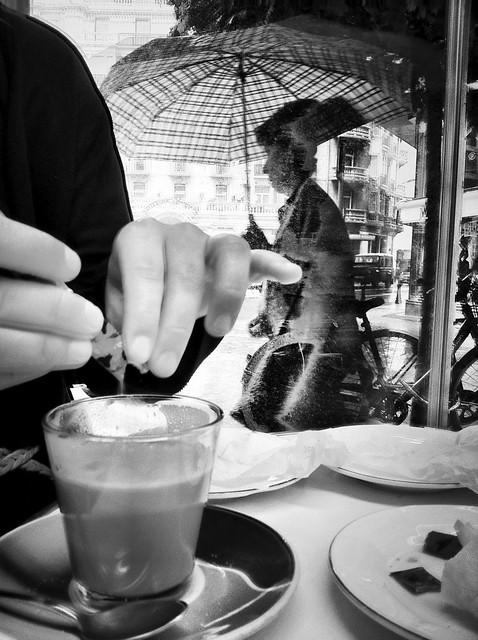backpack: (231, 296, 424, 436), (446, 302, 477, 429)
banana: (237, 289, 427, 428)
bench: (96, 192, 400, 386), (222, 199, 417, 426), (230, 301, 430, 437), (248, 193, 378, 352), (241, 256, 401, 338), (348, 296, 385, 328)
bicycle: (235, 151, 413, 420), (188, 310, 464, 462), (230, 282, 422, 429), (255, 146, 356, 386), (249, 224, 390, 372), (312, 294, 430, 422), (263, 338, 428, 426), (372, 298, 476, 429), (295, 269, 397, 370), (333, 259, 383, 384), (357, 311, 422, 403), (408, 326, 468, 425), (318, 287, 410, 351), (434, 299, 478, 430), (351, 295, 405, 388), (379, 326, 427, 421), (393, 279, 406, 303)
bird: (239, 141, 340, 352), (245, 279, 301, 340)
boat: (350, 252, 393, 288)
book: (396, 527, 465, 593), (439, 518, 477, 625), (384, 546, 448, 594), (388, 566, 440, 595), (420, 530, 460, 560)
bottle: (36, 363, 229, 596), (239, 134, 344, 350), (0, 201, 106, 392), (243, 212, 268, 248)
bowl: (12, 389, 415, 626), (19, 454, 289, 624), (74, 483, 387, 628), (43, 390, 223, 610), (241, 290, 426, 426), (317, 481, 470, 631), (142, 496, 315, 620), (0, 201, 106, 392), (193, 504, 294, 603)
bus: (350, 253, 393, 289)
cake: (12, 389, 415, 626), (42, 387, 256, 605), (229, 310, 426, 437), (0, 201, 106, 392), (194, 504, 294, 598), (433, 526, 476, 631), (245, 273, 303, 339), (89, 327, 121, 368)
car: (230, 301, 430, 437), (248, 193, 378, 352), (241, 256, 401, 338), (434, 299, 478, 430), (323, 252, 386, 335), (309, 249, 392, 302), (348, 256, 391, 347), (339, 239, 399, 295), (351, 252, 393, 289), (352, 271, 391, 301), (350, 258, 379, 297), (396, 270, 423, 296), (361, 267, 391, 289), (392, 263, 408, 297), (394, 253, 409, 286), (351, 275, 369, 300), (381, 264, 395, 285), (377, 268, 392, 287), (395, 269, 410, 287)
cat: (230, 301, 430, 437), (240, 148, 354, 351), (241, 184, 315, 339), (245, 279, 301, 340)
cell phone: (388, 566, 440, 595)
chair: (243, 315, 460, 575), (111, 243, 433, 416), (220, 118, 390, 417), (3, 0, 128, 388), (237, 287, 426, 429), (2, 155, 104, 390), (248, 193, 378, 352), (448, 289, 477, 414), (388, 566, 439, 595)
cow: (248, 193, 378, 352)
cup: (10, 374, 447, 638), (21, 335, 251, 559), (19, 454, 289, 624), (43, 390, 223, 610), (182, 489, 302, 625), (439, 519, 478, 626)
dining table: (61, 71, 453, 529), (0, 0, 338, 474), (14, 155, 354, 609), (5, 371, 478, 635), (77, 219, 456, 455), (10, 283, 287, 567), (0, 257, 311, 445), (1, 439, 297, 629), (3, 208, 323, 380), (229, 336, 469, 562), (161, 313, 466, 468), (74, 483, 387, 628), (36, 363, 229, 596), (216, 452, 467, 629), (219, 284, 435, 431), (247, 426, 473, 541), (27, 316, 265, 423), (317, 481, 470, 631), (1, 205, 114, 392), (242, 388, 463, 482), (255, 502, 401, 636), (0, 343, 106, 509), (272, 552, 457, 636), (0, 276, 130, 377), (373, 520, 477, 632), (0, 321, 129, 389)
dog: (232, 296, 424, 431), (241, 172, 359, 356), (245, 279, 303, 340)
donut: (245, 278, 302, 339)
fire hydrant: (243, 147, 395, 413), (237, 274, 430, 423)
fork: (1, 205, 114, 392), (41, 329, 221, 409), (94, 232, 167, 399), (0, 585, 184, 636), (59, 314, 153, 396), (21, 322, 131, 386), (107, 319, 189, 392), (102, 274, 152, 389), (0, 592, 103, 637), (79, 312, 128, 392), (87, 357, 177, 396), (119, 351, 195, 395), (89, 328, 146, 383), (64, 367, 153, 401), (76, 346, 132, 397), (91, 340, 123, 390), (121, 362, 165, 395), (72, 374, 130, 398), (90, 328, 123, 368), (119, 333, 152, 372), (100, 333, 126, 376), (89, 319, 120, 354), (105, 346, 127, 394), (113, 354, 132, 396), (118, 362, 136, 394), (108, 344, 125, 375), (115, 365, 128, 395), (100, 317, 117, 336)
handbag: (254, 117, 368, 378), (233, 305, 427, 436), (446, 302, 477, 429), (388, 566, 440, 595)
horse: (232, 296, 424, 431), (248, 193, 378, 352)
hot dog: (90, 328, 123, 368)
knife: (1, 205, 114, 392), (0, 585, 184, 636), (45, 314, 124, 390), (379, 529, 463, 600), (102, 274, 152, 389), (433, 526, 476, 631), (79, 297, 128, 384), (0, 591, 87, 638), (89, 328, 146, 383), (91, 340, 123, 390), (387, 565, 439, 595), (90, 328, 123, 368), (119, 332, 152, 371), (421, 530, 461, 560), (100, 333, 126, 376), (89, 319, 120, 354), (105, 346, 127, 394), (113, 354, 132, 396), (93, 347, 121, 370), (118, 362, 136, 394), (108, 344, 125, 375)
laptop: (387, 566, 439, 595)
motorcycle: (237, 274, 430, 423), (248, 193, 378, 352), (241, 256, 401, 338)
oven: (27, 461, 435, 635), (45, 385, 222, 614), (317, 481, 470, 631), (351, 253, 393, 289)
person: (0, 56, 410, 542), (0, 260, 475, 632), (0, 11, 270, 410), (148, 87, 418, 430), (18, 221, 399, 458), (11, 189, 239, 574), (42, 5, 366, 254), (69, 94, 368, 342), (0, 130, 192, 458), (7, 172, 322, 371), (121, 2, 432, 197), (287, 79, 464, 420), (40, 18, 201, 344), (0, 9, 133, 394), (36, 363, 229, 596), (101, 83, 259, 360), (227, 79, 396, 306), (246, 103, 366, 417), (161, 168, 335, 381), (269, 174, 403, 408), (3, 216, 211, 362), (160, 54, 387, 185), (237, 274, 430, 423), (197, 122, 310, 346), (98, 220, 276, 357), (239, 212, 378, 372), (0, 205, 108, 391), (1, 133, 96, 343), (238, 158, 335, 355), (433, 248, 478, 431), (333, 251, 384, 354), (248, 249, 302, 337), (433, 526, 476, 631), (448, 289, 477, 414), (352, 253, 393, 292), (350, 294, 381, 332), (242, 213, 269, 250), (409, 75, 428, 121), (457, 234, 472, 277), (395, 267, 409, 298), (415, 275, 428, 301), (394, 274, 405, 304), (378, 264, 392, 286)
pizza: (36, 363, 229, 596), (379, 529, 463, 600), (89, 327, 121, 368)
potted plant: (222, 199, 417, 426), (244, 127, 352, 369), (241, 184, 315, 339)
remote: (282, 252, 310, 267)
sandwich: (0, 203, 107, 392), (89, 327, 121, 368)
scissors: (0, 585, 184, 636), (0, 591, 87, 637)
sheep: (245, 279, 303, 340)
sink: (111, 243, 433, 416), (241, 290, 426, 426), (332, 498, 469, 628)
spoon: (4, 561, 252, 639), (0, 585, 184, 636), (107, 319, 189, 392), (73, 317, 136, 391), (0, 592, 103, 637), (73, 595, 184, 636), (91, 327, 149, 373), (90, 326, 123, 368), (119, 332, 152, 371), (116, 357, 137, 395)
suitcase: (230, 301, 430, 437)
teddy bear: (230, 301, 430, 437), (239, 141, 340, 352)
tie: (273, 189, 307, 257), (273, 199, 295, 248), (278, 192, 302, 236), (292, 188, 308, 243), (287, 201, 311, 237), (284, 204, 300, 237), (288, 179, 308, 204), (276, 202, 294, 229), (272, 212, 286, 245), (296, 205, 308, 237), (292, 207, 304, 236)
toilet: (237, 289, 427, 428), (248, 193, 378, 352)
traffic light: (406, 73, 427, 120)
truck: (248, 193, 378, 352), (330, 250, 398, 299), (351, 252, 393, 289), (350, 258, 379, 297)
umbrella: (17, 16, 387, 437), (42, 5, 366, 254), (10, 9, 256, 324), (95, 75, 355, 373), (145, 54, 412, 303), (0, 9, 133, 394), (232, 75, 381, 390), (104, 30, 409, 165), (213, 89, 420, 235), (290, 71, 403, 292), (182, 21, 414, 124), (99, 49, 279, 180), (205, 63, 406, 155), (256, 89, 403, 180), (293, 108, 419, 212), (307, 72, 405, 127), (254, 97, 355, 149), (245, 279, 301, 340)
vase: (239, 141, 340, 352)
